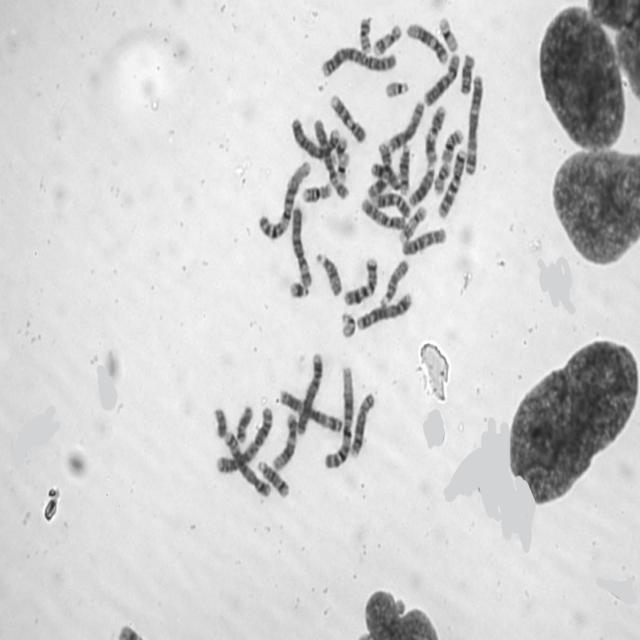A1: (256, 156, 312, 242), (321, 363, 355, 471)
A2: (213, 403, 274, 476), (318, 44, 397, 78)
A3: (276, 386, 343, 432), (463, 72, 484, 177)
B4: (294, 349, 324, 437), (288, 113, 341, 161)
B5: (222, 429, 272, 498), (354, 290, 414, 332)
C10: (358, 194, 409, 232), (398, 224, 448, 257)
C11: (365, 138, 393, 202), (422, 102, 447, 167)
C12: (405, 19, 449, 65), (270, 410, 299, 472)
C6: (311, 116, 350, 202), (290, 203, 314, 289)
C7: (436, 147, 468, 220), (340, 254, 380, 308)
C8: (386, 98, 426, 154), (348, 389, 375, 459)
C9: (329, 92, 367, 144), (370, 189, 413, 219)
D13: (406, 163, 436, 208), (369, 160, 402, 190)
D14: (255, 457, 290, 499), (397, 141, 412, 197)
D15: (378, 256, 411, 308), (314, 250, 344, 299)
E16: (439, 126, 465, 164), (300, 180, 334, 204)
E17: (397, 203, 428, 245), (372, 21, 402, 56)
E18: (233, 401, 254, 444), (458, 50, 476, 95)
F19: (437, 14, 459, 53), (335, 149, 352, 183)
F20: (432, 160, 453, 197), (357, 14, 373, 54)
G21: (287, 278, 311, 302), (333, 134, 349, 163)
G22: (338, 309, 358, 340), (382, 77, 410, 99)
X: (421, 51, 461, 108)
Y: (212, 407, 228, 439)
